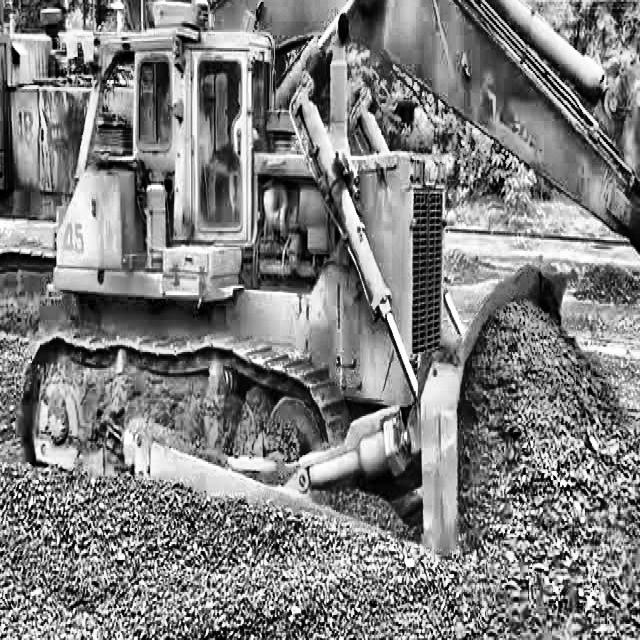buldozerpayloadergrader: (17, 0, 565, 562)
excavator: (238, 0, 640, 289)
